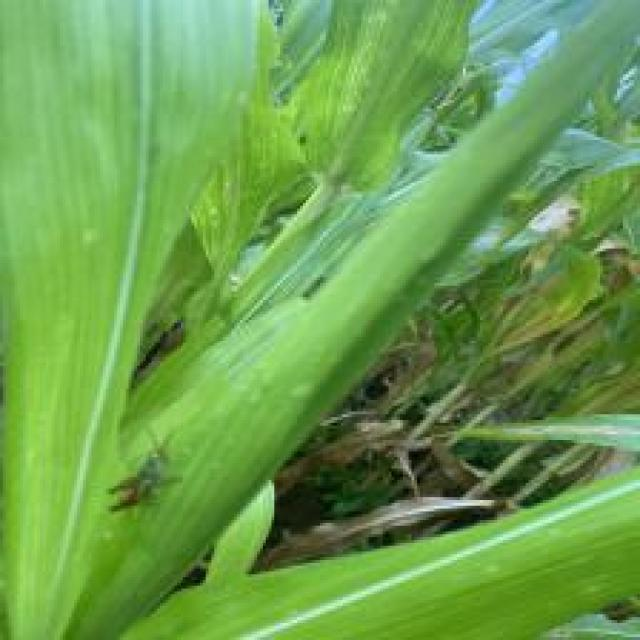Plaga: (96, 434, 193, 531)
